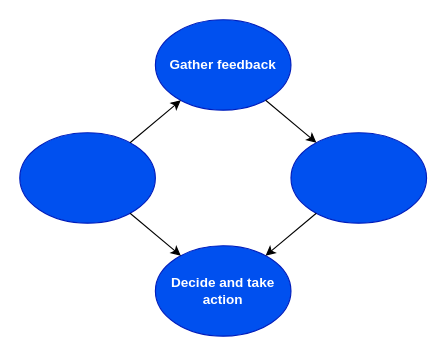
Image size: 446x356. Some labels were removed from this diagram. The shapes that lost their labels are listed below. From the top down, each one's box as (x1, y1, x2, y2) in pixels, then its label:
(19, 132, 155, 223): Follow up with customers
(290, 132, 427, 223): Analyze feedback
